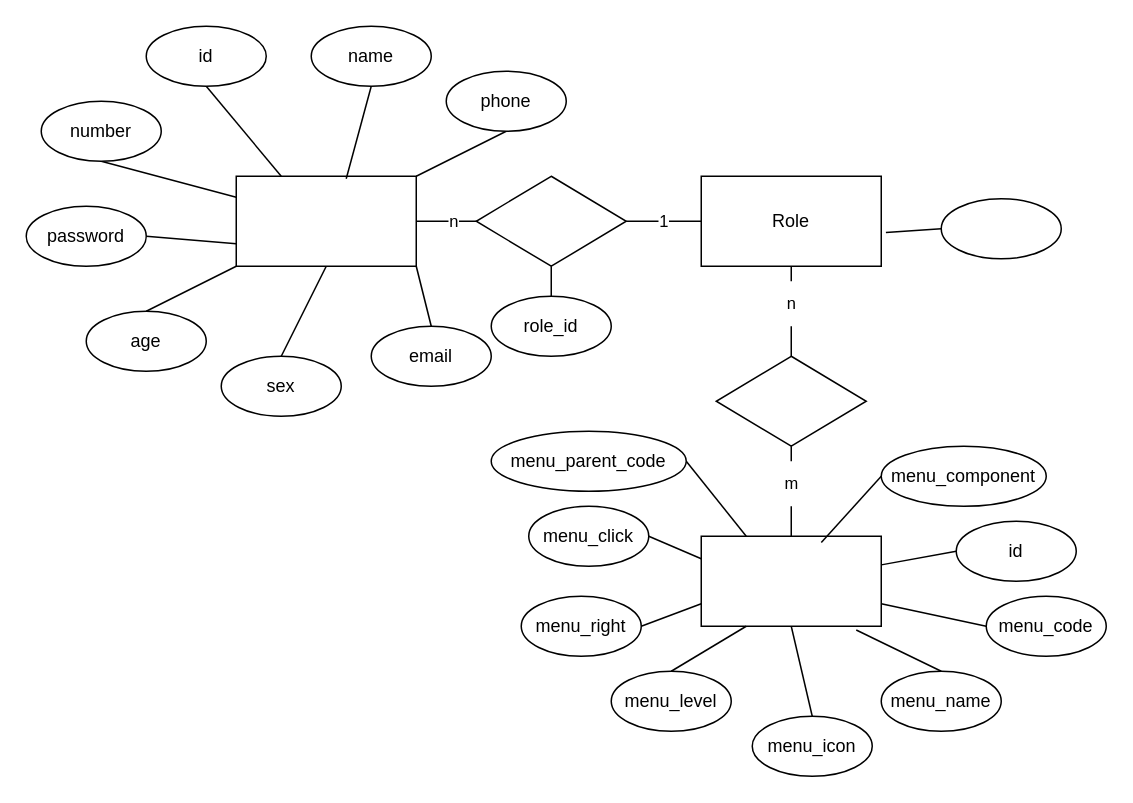
Some shapes in this 1133 by 803 pixel diagram are drawn without their labels. The shapes that lost their labels are listed below. From the top down, each one's centre as x and y in pixels, then its label:
At point 325,220: "User".
At point 550,220: "HasRole".
At point 1000,228: "role_name".
At point 790,400: "HasAccess".
At point 790,580: "Menu".
